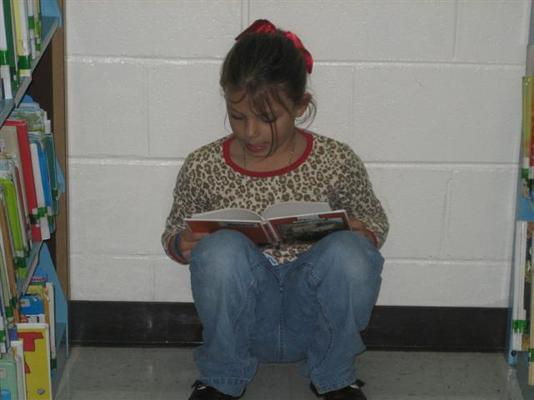person: (162, 21, 391, 400)
